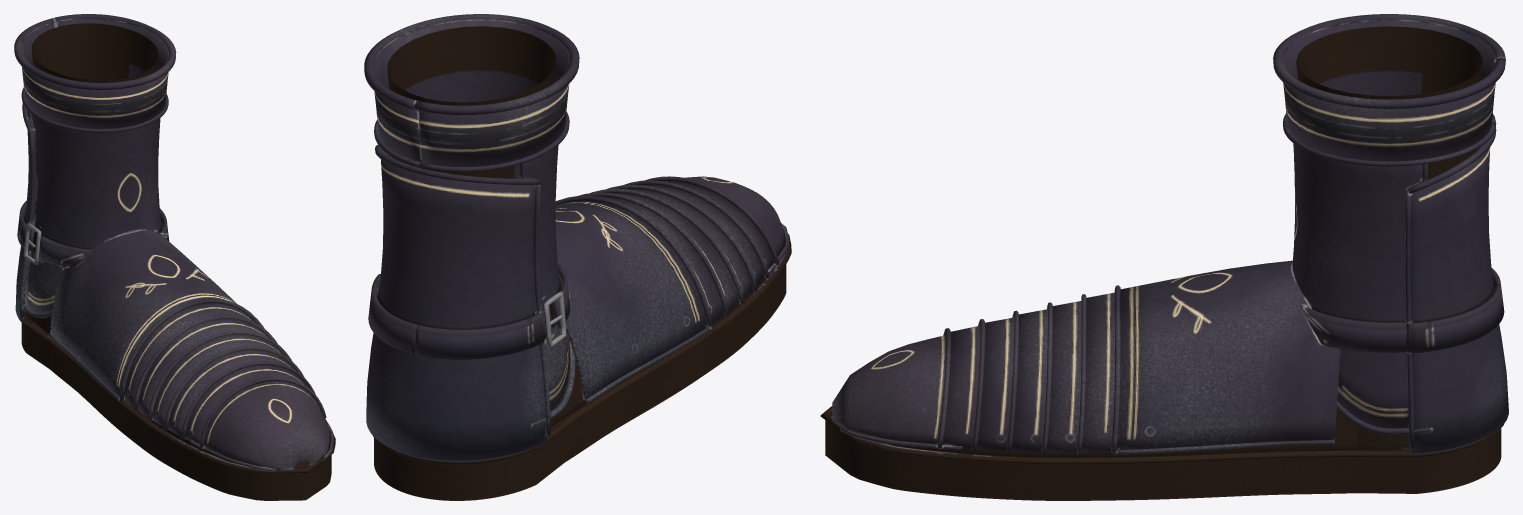
The model's file is SM_ObsidianSovereign_Boots_R.fbx.
The picture shows the model from 3 angles, left to right: view 1: azimuth 30°, elevation 25°; view 2: azimuth 150°, elevation 25°; view 3: azimuth 270°, elevation 25°; orthographic projection. The views are drawn at different scales.
Parts seen in each view (by area): view 1: SM_ObsidianSovereign_Boots_R; view 2: SM_ObsidianSovereign_Boots_R; view 3: SM_ObsidianSovereign_Boots_R.
Boxes of the visible parts, <box> form: SM_ObsidianSovereign_Boots_R: <box>14,14,335,500</box>; SM_ObsidianSovereign_Boots_R: <box>364,14,791,500</box>; SM_ObsidianSovereign_Boots_R: <box>820,14,1508,500</box>.
Bounding box in the file's own units: 13.45 × 38.16 × 24.38.
